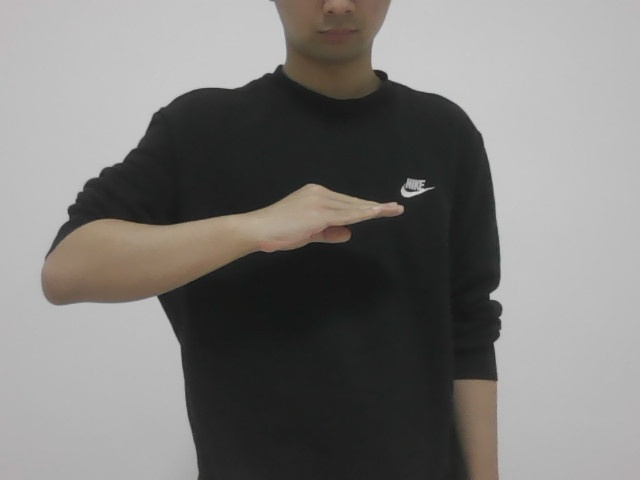late/night: (244, 165, 411, 263)
